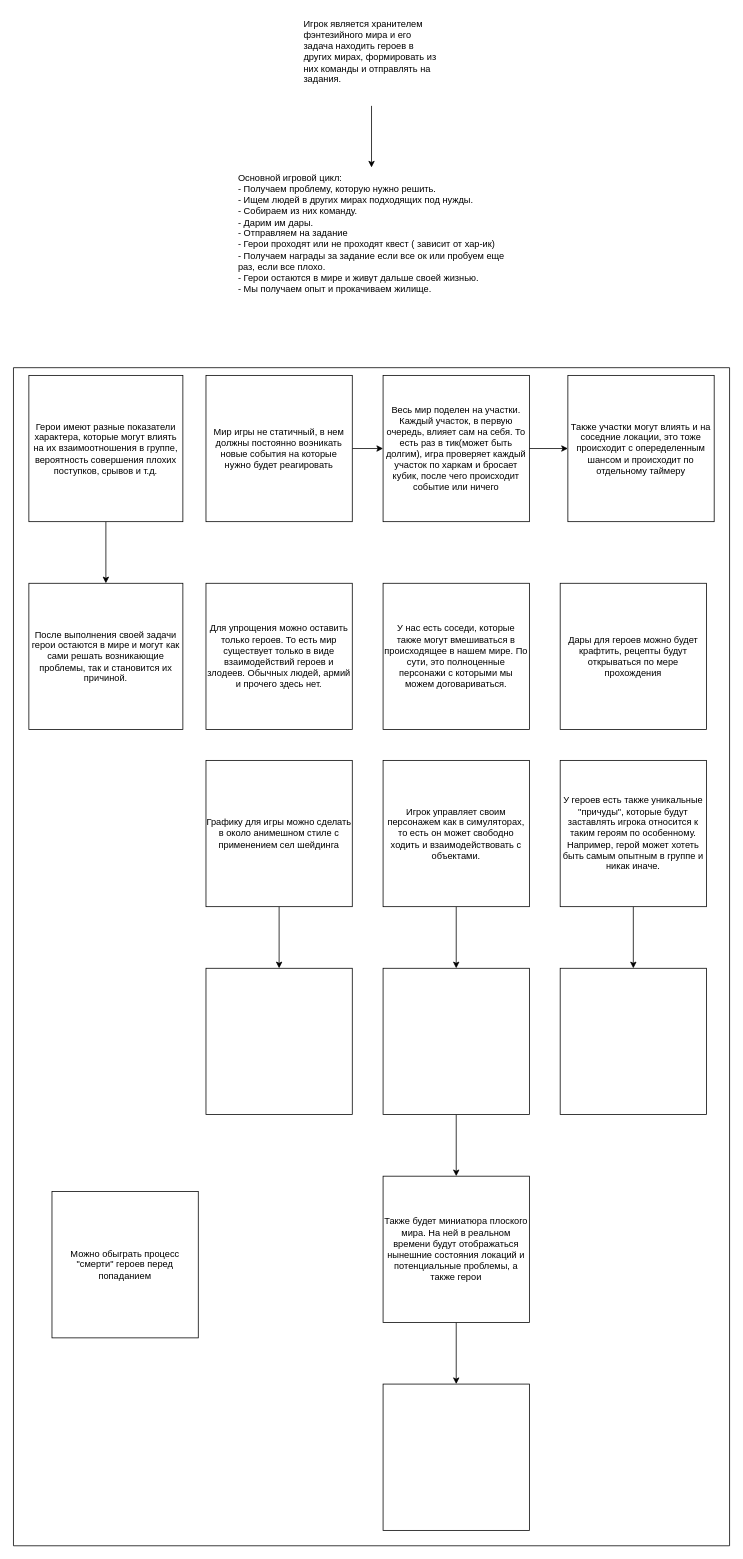
Image size: 743x1559. Some labels were removed from this diagram. Each missing label, with the centre of its shape:
Для моделек можно использовать VROID Studio: pixel 278 1041
Со временем игрок сможет посетить миры других смотрителей: pixel 455 1456
Среди объектов точно будет трон. На нем игрок будет встречать новых героев.: pixel 455 1041
Чем выше уровень героя, тем больше у него причуд: pixel 632 1041
